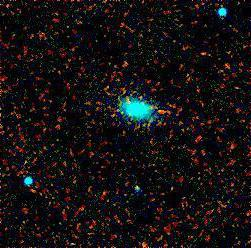star: (155, 173, 185, 203)
